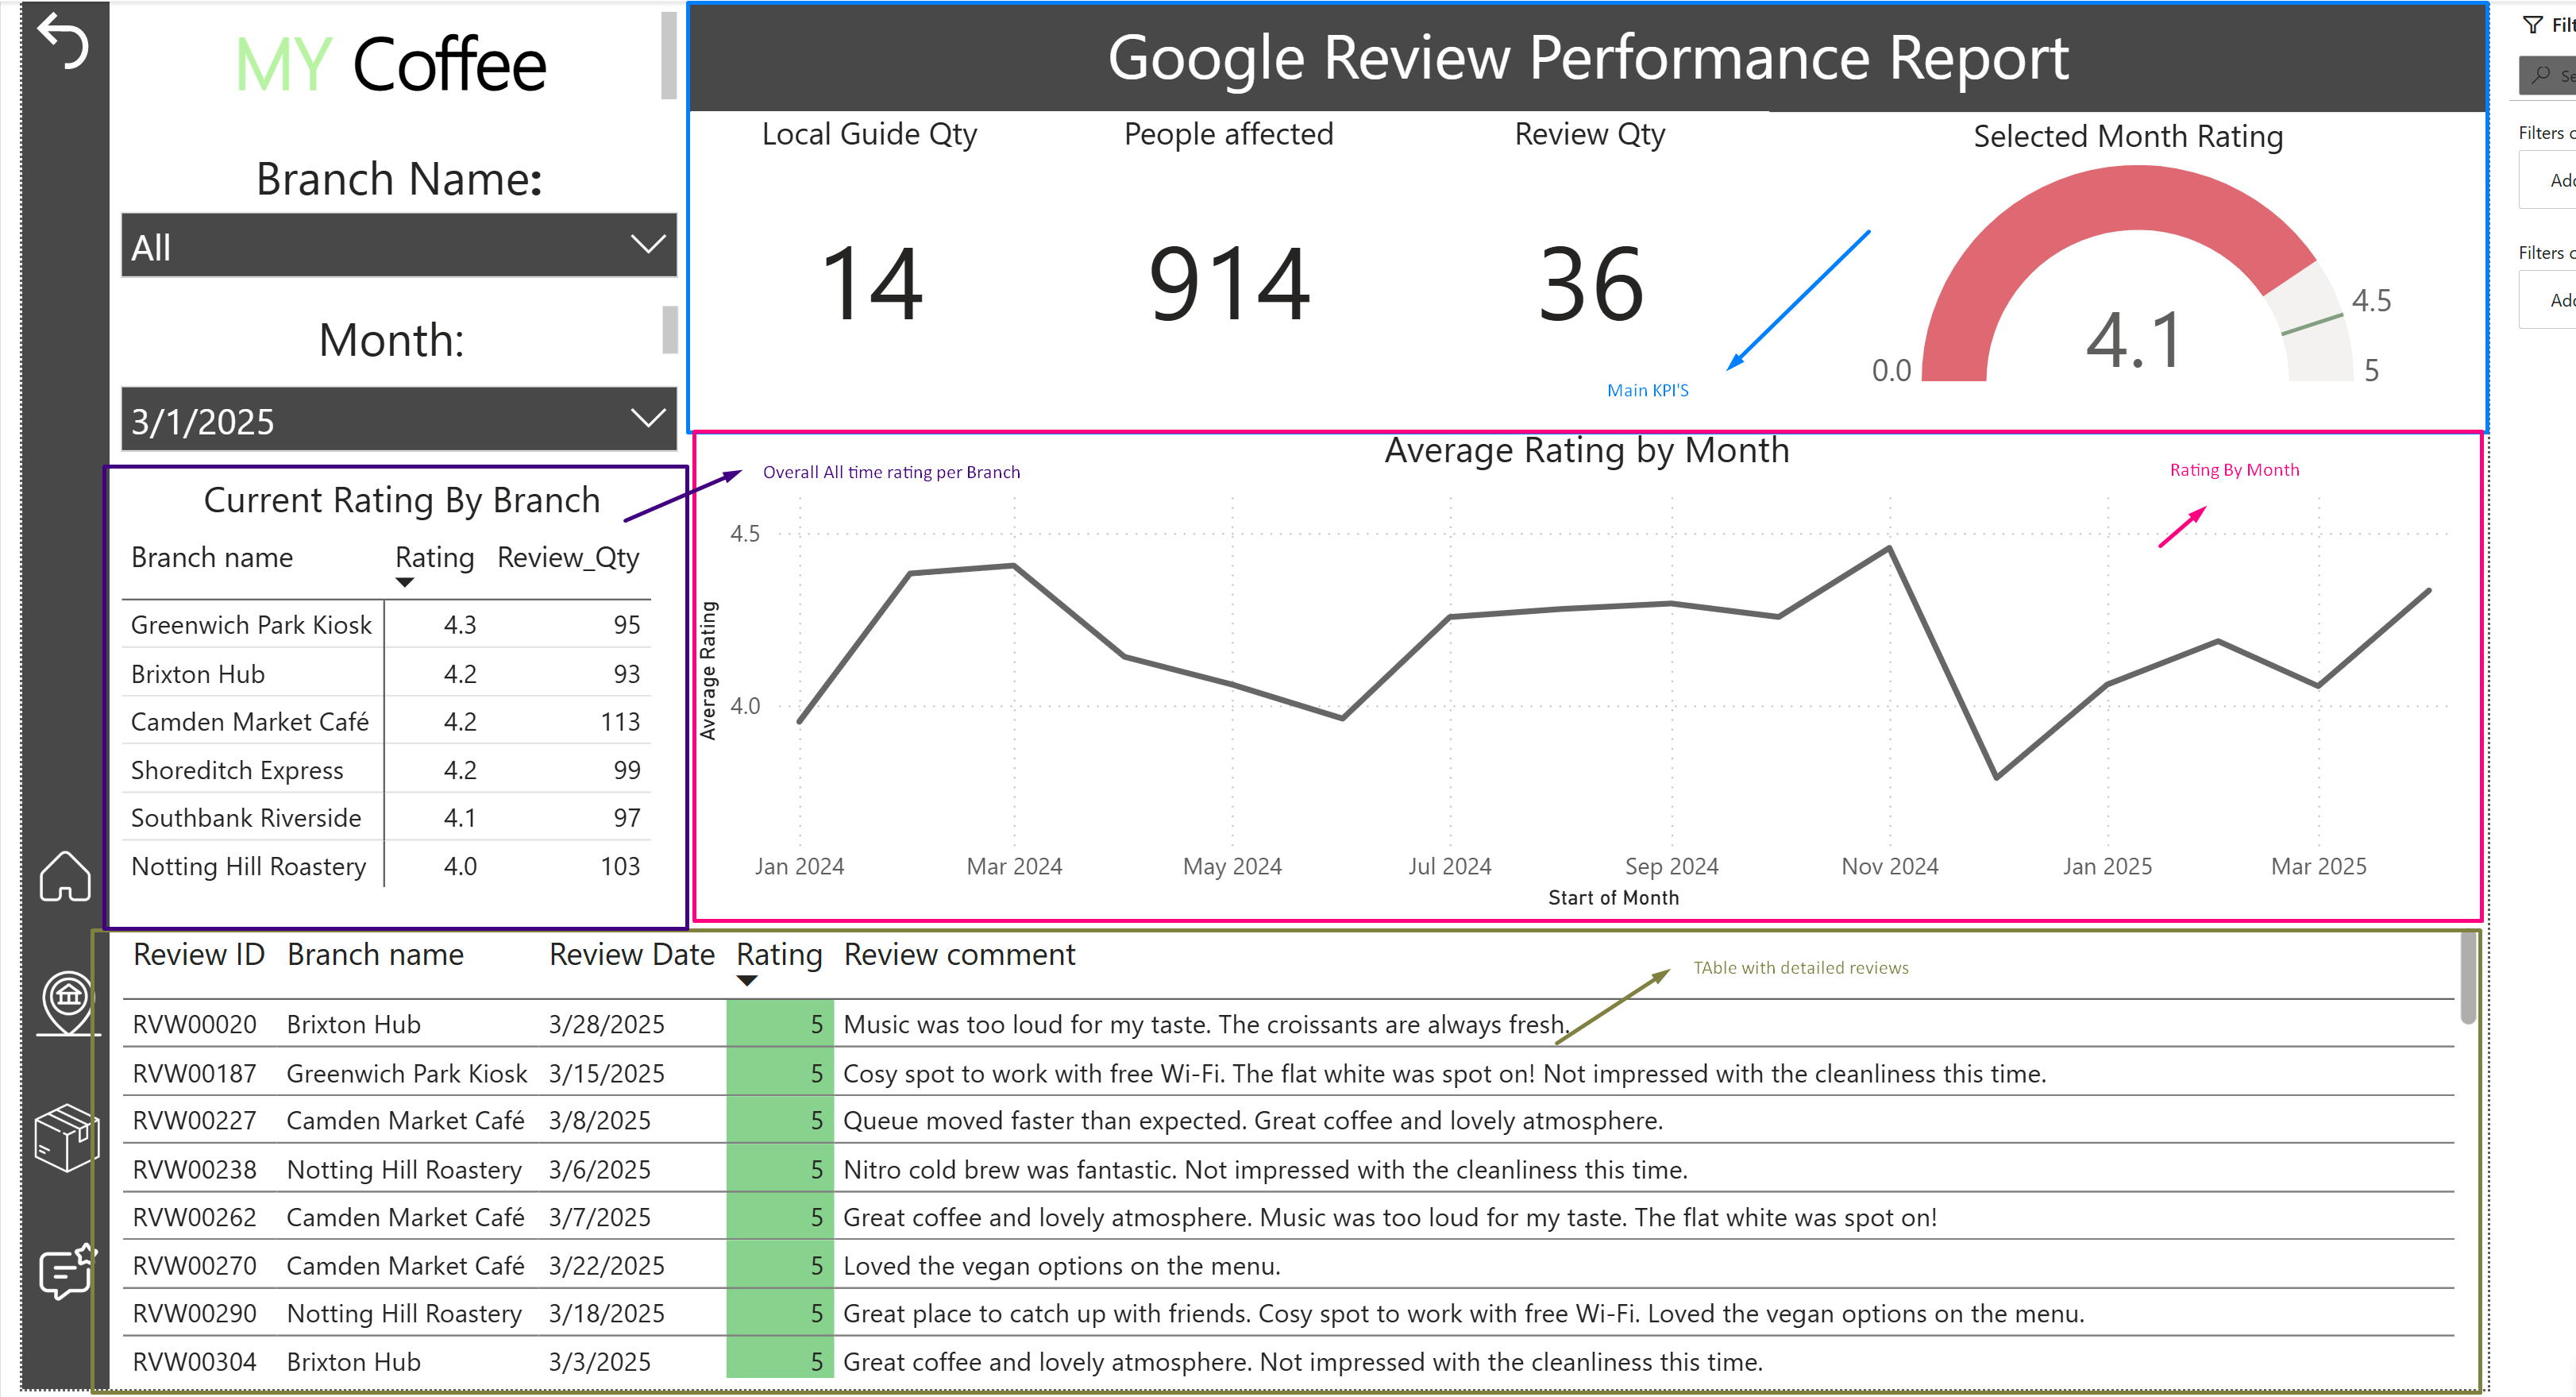

What the dashboard file says about the page in this screenshot:
{"tool":"powerbi","page":{"name":"Reviews Report","canvas":[1280,720],"ordinal":3},"visuals":[{"type":"shape","box":[0,0,45.6,720.6],"z":0},{"type":"image","box":[2.1,497.4,44.2,44.2],"z":1000},{"type":"image","box":[2.1,637.3,44.2,43.1],"z":2000},{"type":"image","box":[0,432.2,44.2,43.1],"z":3000},{"type":"image","box":[0,563.7,46.3,51.5],"z":4000},{"type":"textbox","box":[45.8,0,299.2,57.5],"z":5000},{"type":"textbox","box":[346.3,0,933.7,57.3],"z":6000},{"type":"slicer","fields":{"Values":["Branch_Lookup_Table.Branch name"]},"box":[45.8,103.9,299.4,59.6],"z":7000},{"type":"textbox","box":[45.8,68.7,299.4,42.8],"z":8000},{"type":"slicer","fields":{"Values":["Calendar_Lookup_table.Start of Month"]},"box":[45.8,194,299.4,48.9],"z":9000},{"type":"textbox","box":[45.8,152.7,299.4,38.2],"z":10000},{"type":"gauge","title":"Selected Month Rating","fields":{"Y":["Measure Table.Average Rating"],"MaxValue":["Measure Table.Review_Rating_Max"],"TargetValue":["Measure Table.Review Target"]},"box":[906.9,58,373.1,148.5],"z":11000},{"type":"card","title":"Review Qty","fields":{"Values":["Measure Table.Review_Qty"]},"box":[720.9,56.8,186,148.5],"z":12000},{"type":"lineChart","title":"Average Rating by  Month","fields":{"Y":["Measure Table.Average Rating"],"Category":["Calendar_Lookup_table.Start of Month"]},"box":[344.9,218.7,934.9,256.6],"z":13000},{"type":"tableEx","fields":{"Values":["Reviews_Table.Review ID","Branch_Lookup_Table.Branch name","Reviews_Table.Review Date","Sum(Reviews_Table.Rating)","Reviews_Table.Review Text"]},"box":[46.6,474.5,1232.9,244.6],"z":14000},{"type":"pivotTable","title":"Current  Rating By Branch","fields":{"Rows":["Branch_Lookup_Table.Branch name"],"Values":["Measure Table.Average Rating","Measure Table.Review_Qty"]},"box":[46.5,244.6,301.9,231.5],"z":15000},{"type":"card","title":"People affected","fields":{"Values":["Measure Table.Number of people reviewed"]},"box":[532.5,56.8,188.4,148.5],"z":16000},{"type":"card","title":"Local Guide Qty","fields":{"Values":["Measure Table.Local guide Qty"]},"box":[346.6,56.8,186,148.5],"z":17000},{"type":"actionButton","box":[1.1,0,45.2,40],"z":18000}]}

Visuals, with their boxes on the page's 1280x720 design canvas (x1, y1, x2, y2). These are canvas units, not pixel positions in the 2576x1397 screenshot, which may show the page scaled, cropped or inside an application window:
shape: <box>0,0,46,721</box>
image: <box>2,497,46,542</box>
image: <box>2,637,46,680</box>
image: <box>0,432,44,475</box>
image: <box>0,564,46,615</box>
textbox: <box>46,0,345,58</box>
textbox: <box>346,0,1280,57</box>
slicer - Branch_Lookup_Table.Branch name: <box>46,104,345,164</box>
textbox: <box>46,69,345,112</box>
slicer - Calendar_Lookup_table.Start of Month: <box>46,194,345,243</box>
textbox: <box>46,153,345,191</box>
"Selected Month Rating" gauge: <box>907,58,1280,206</box>
"Review Qty" card: <box>721,57,907,205</box>
"Average Rating by  Month" lineChart: <box>345,219,1280,475</box>
tableEx - Reviews_Table.Review ID x Branch_Lookup_Table.Branch name: <box>47,474,1280,719</box>
"Current  Rating By Branch" pivotTable: <box>46,245,348,476</box>
"People affected" card: <box>532,57,721,205</box>
"Local Guide Qty" card: <box>347,57,533,205</box>
actionButton: <box>1,0,46,40</box>
